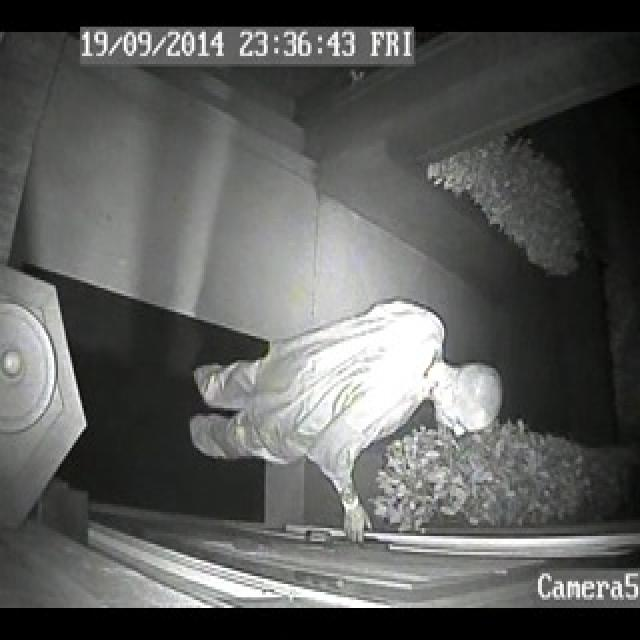thief: (186, 302, 504, 534)
